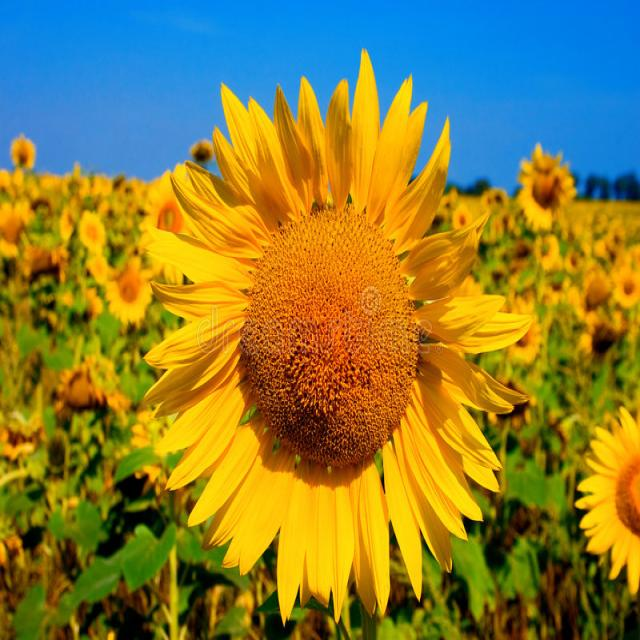sunflower: (144, 48, 531, 614), (569, 394, 640, 597), (516, 127, 570, 230), (69, 205, 109, 252)
